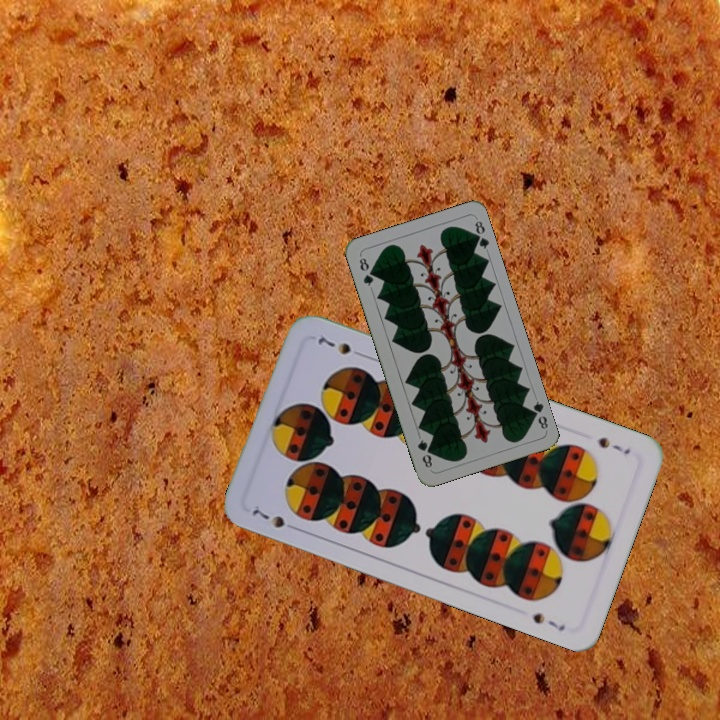G8: (525, 397, 551, 432), (355, 253, 376, 289)
S7: (248, 503, 302, 534), (594, 433, 633, 457)
